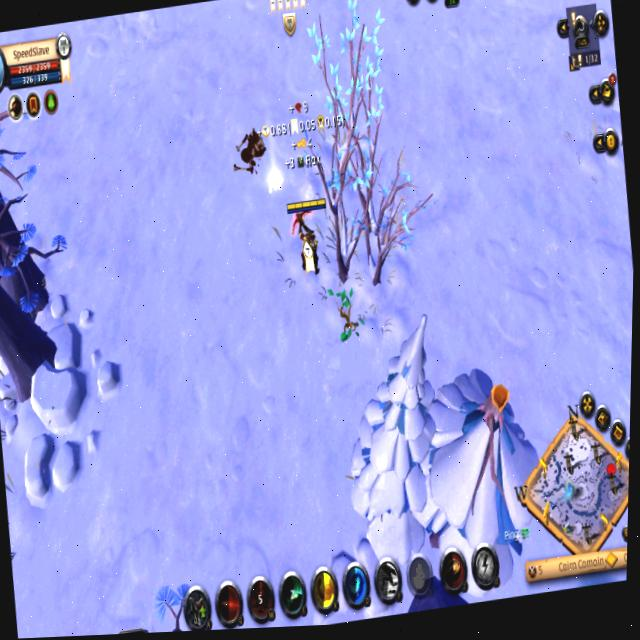stone: (263, 166, 286, 197)
